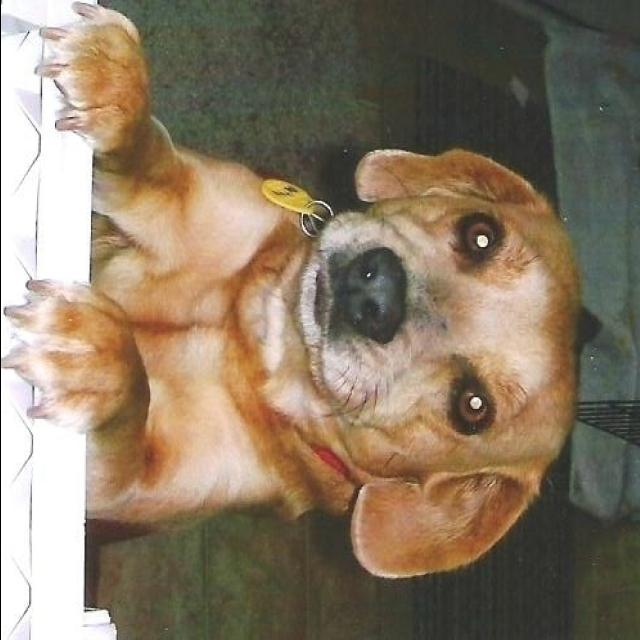beagle: (2, 0, 580, 578)
